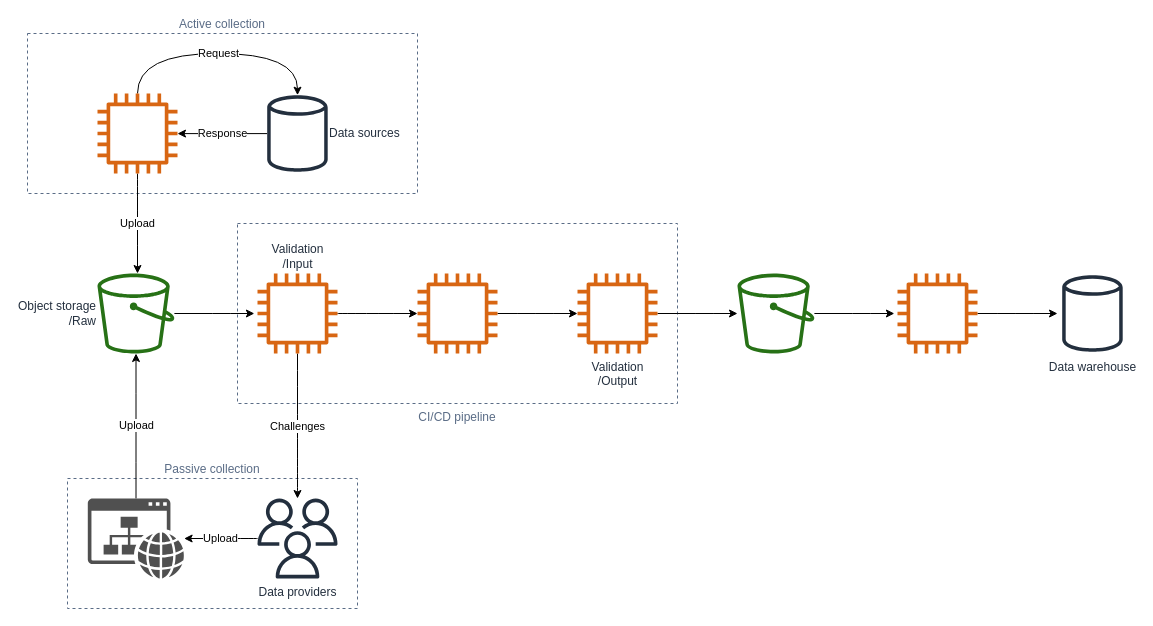
The diagram is 1153 pixels wide and 626 high, and some of its shapes have lost their labels. Each missing label, with the centre of its shape:
Extraction: pixel 137 133
Loading: pixel 937 313
Object storage /Transformed: pixel 775 313
Transformation: pixel 457 313
Web interface: pixel 135 538
